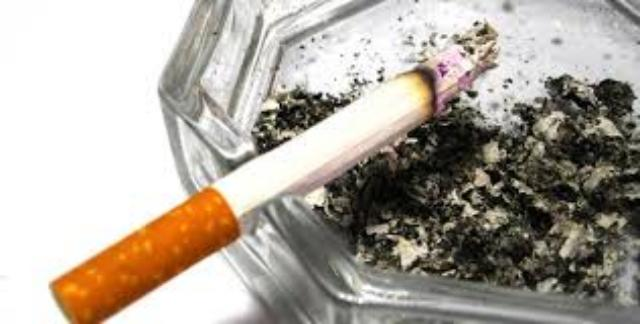Cigarette: (46, 19, 502, 324)
